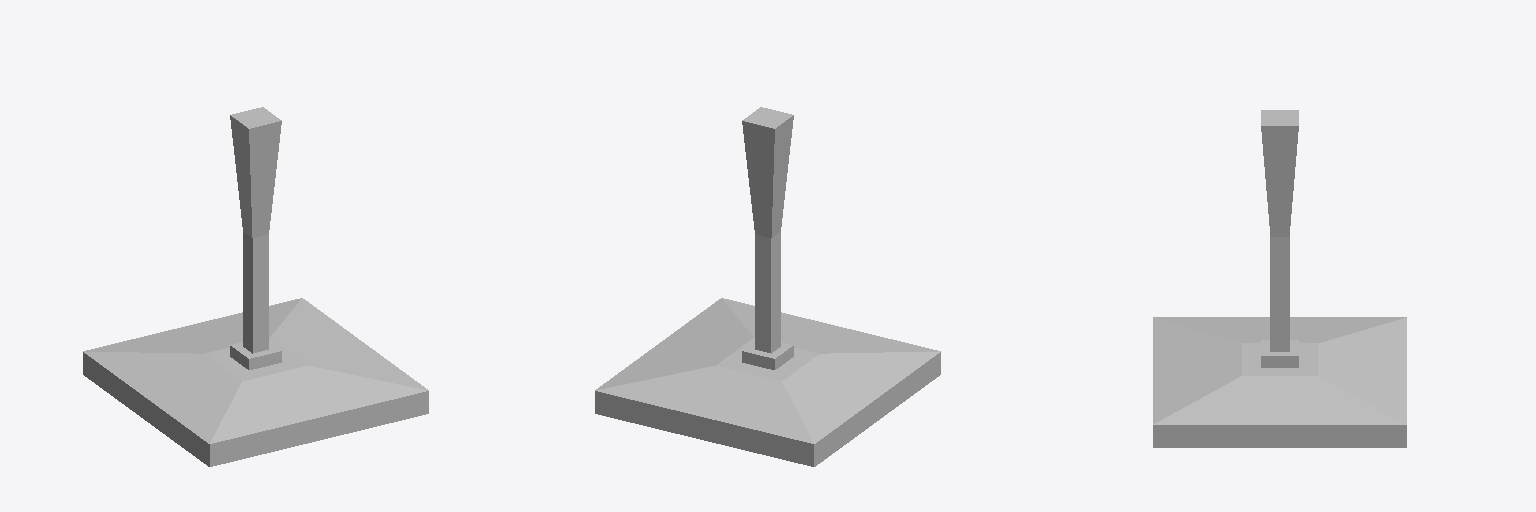
Rendered from MachineGunTurretBase.obj.
3 renders of one model, left to right at view 1: azimuth 30°, elevation 25°; view 2: azimuth 150°, elevation 25°; view 3: azimuth 270°, elevation 25°, orthographic.
Visible parts, largest first — view 1: M2BrowningBase; view 2: M2BrowningBase; view 3: M2BrowningBase.
Part boxes in pixels (left/top/right/bottom): M2BrowningBase: left=83, top=107, right=428, bottom=466; M2BrowningBase: left=595, top=107, right=940, bottom=466; M2BrowningBase: left=1153, top=110, right=1406, bottom=447.
Bounding box in the file's own units: 2 × 2.4 × 2.